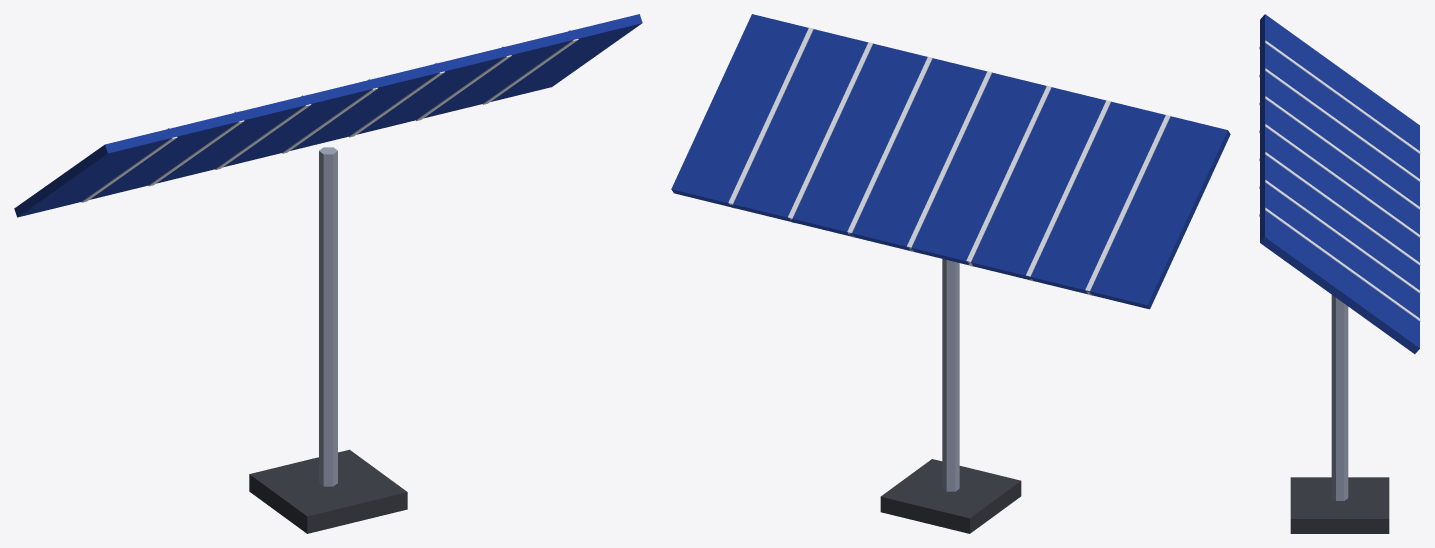
File: lowpoly-solar_array.glb
The picture shows the model from 3 angles, left to right: view 1: azimuth 30°, elevation 25°; view 2: azimuth 150°, elevation 25°; view 3: azimuth 270°, elevation 25°; orthographic projection. The views are drawn at different scales.
Parts seen in each view (by area): view 1: solar_array; view 2: solar_array; view 3: solar_array.
Boxes of the visible parts, x1=… form: solar_array: x1=14, y1=14, x2=642, y2=533; solar_array: x1=671, y1=14, x2=1230, y2=533; solar_array: x1=1259, y1=14, x2=1420, y2=533.
Bounding box in the file's own units: 3.2 × 2.6 × 0.9773.
